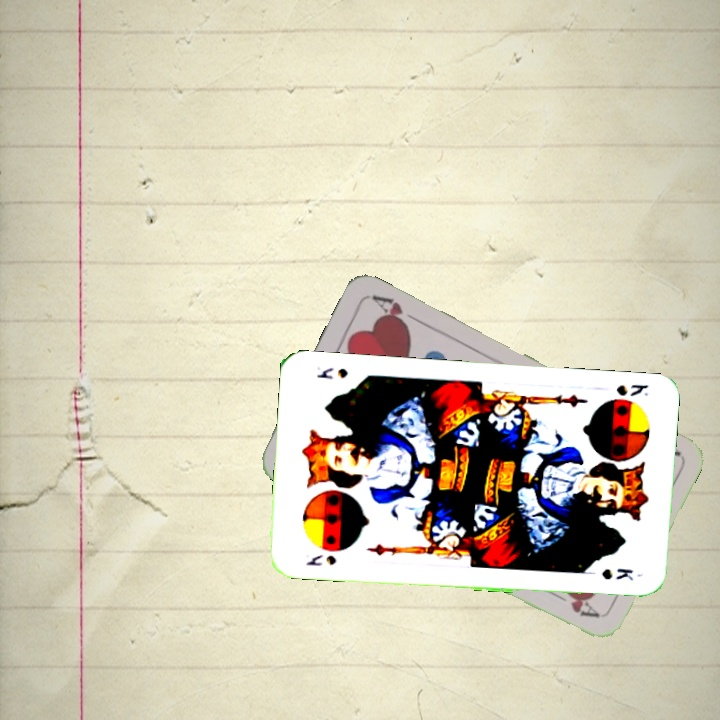SK: (612, 380, 651, 399), (301, 551, 339, 569)
